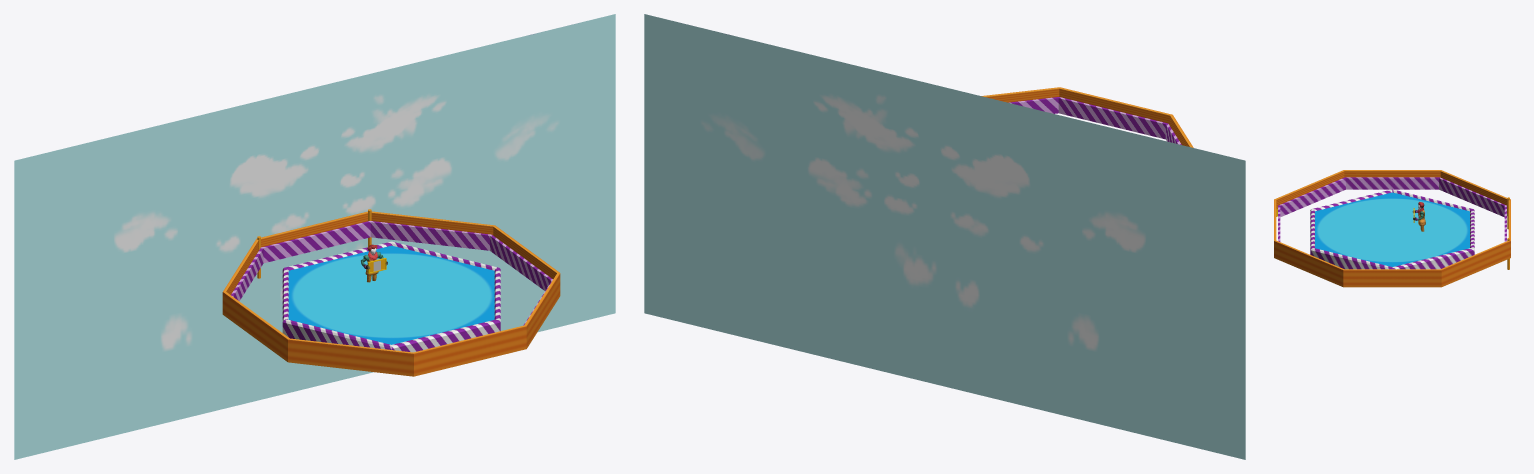
The model's file is map_ghepnhom.fbx.
3 renders of one model, left to right at view 1: azimuth 30°, elevation 25°; view 2: azimuth 150°, elevation 25°; view 3: azimuth 270°, elevation 25°, orthographic. The views are drawn at different scales.
Visible parts, largest first — view 1: pSphere1, pCylinder1, pCylinder2, pCylinder3; view 2: pSphere1, pCylinder3, pCylinder2; view 3: pCylinder1, pCylinder2, pCylinder3.
Boxes of the visible parts, left/top/right/bottom form: pSphere1: left=14, top=14, right=615, bottom=459; pCylinder1: left=282, top=241, right=500, bottom=352; pCylinder2: left=222, top=211, right=560, bottom=376; pCylinder3: left=231, top=221, right=552, bottom=325; pSphere1: left=644, top=14, right=1245, bottom=459; pCylinder3: left=1009, top=97, right=1181, bottom=144; pCylinder2: left=981, top=87, right=1193, bottom=147; pCylinder1: left=1310, top=189, right=1474, bottom=269; pCylinder2: left=1274, top=170, right=1510, bottom=287; pCylinder3: left=1278, top=177, right=1506, bottom=241.
Bounding box in the file's own units: 321 × 153 × 151.
